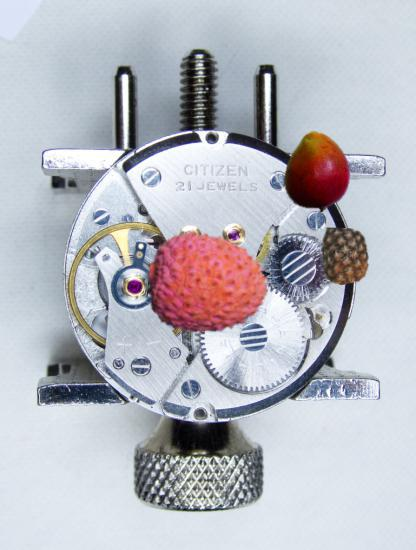Lychee: (148, 224, 269, 345)
Mango: (277, 131, 358, 212)
Pineapple: (316, 228, 373, 285)
